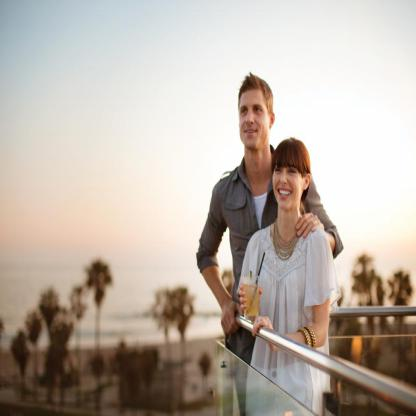face: (273, 145, 303, 211), (240, 91, 268, 149)
